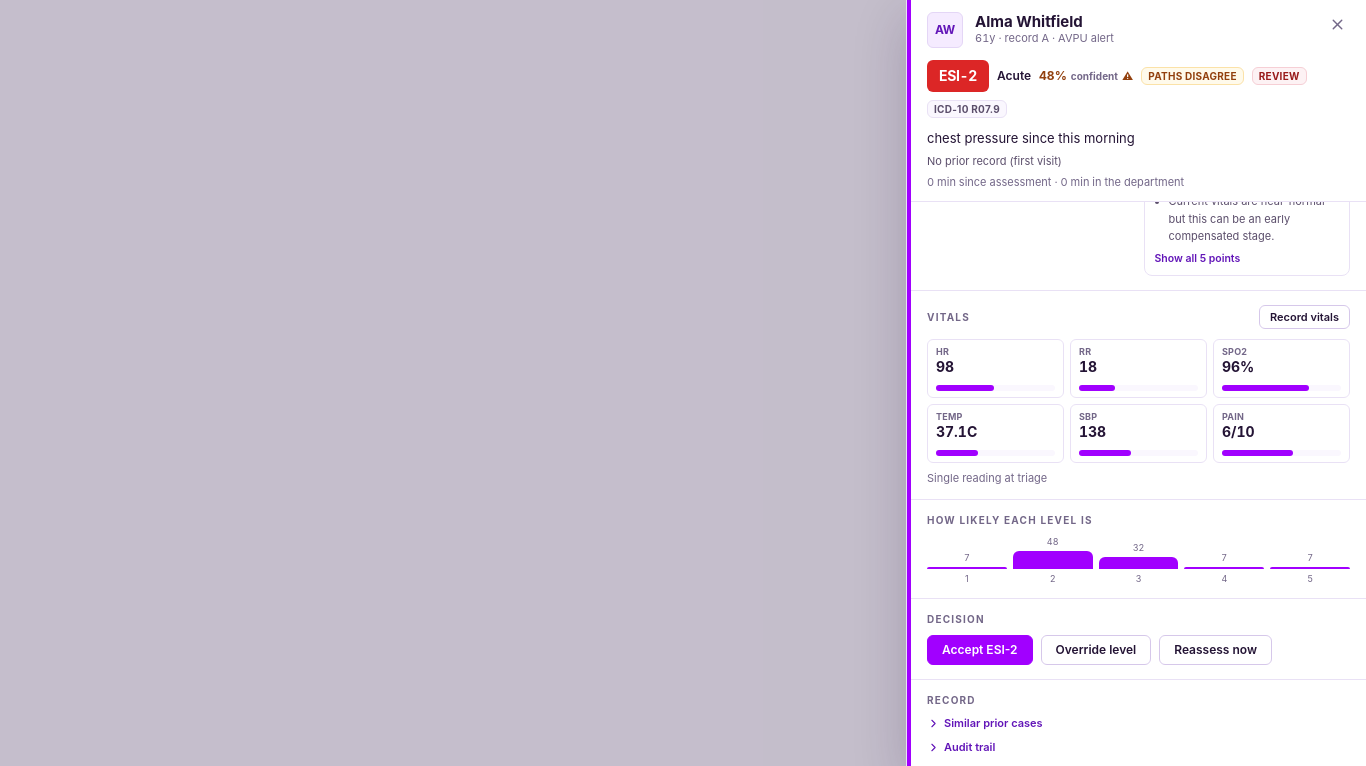
Test: similar prior cases › gives the reason rather than an empty list
(page scrolled)
What coordinates should you click on to do the following:
click the button "Similar prior cases"
I would click on:
 (985, 723)
Its box is left=927, top=716, right=1043, bottom=730.
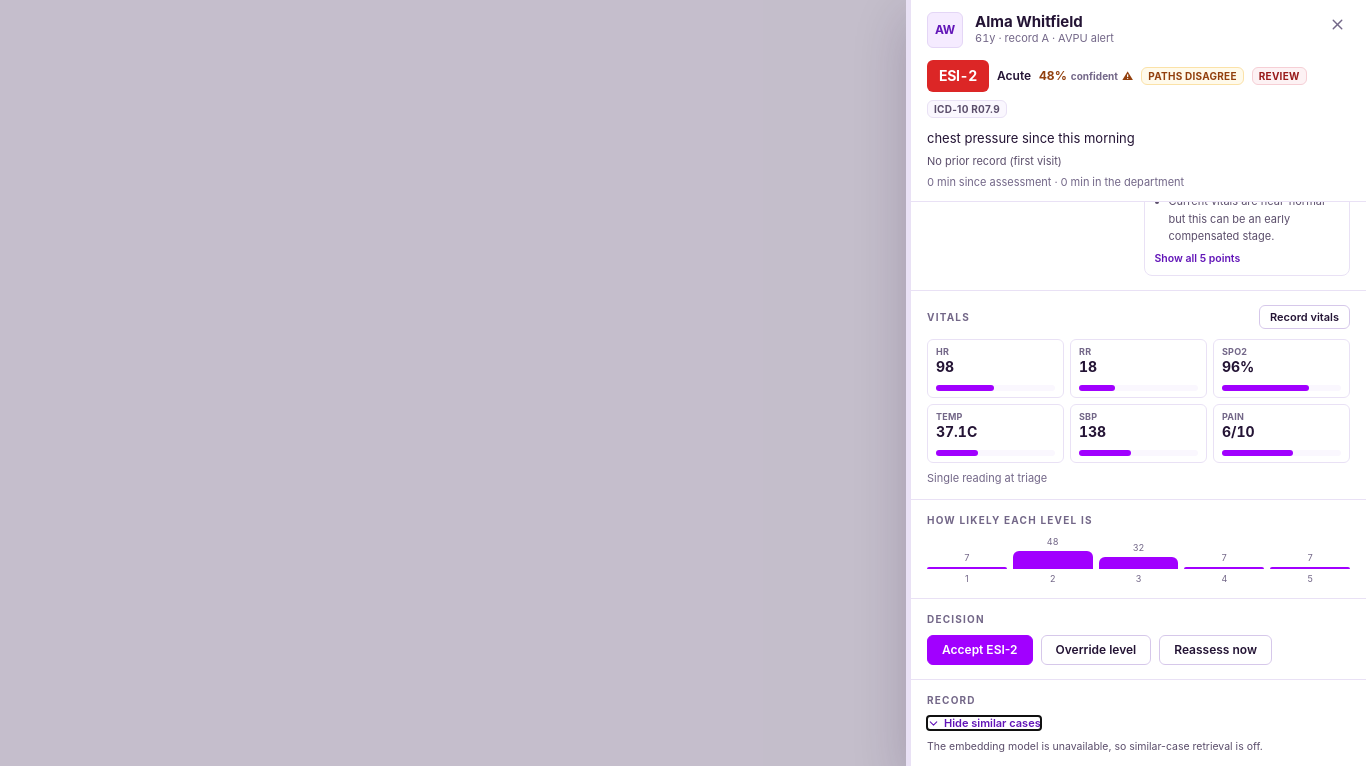
Check: the text "embedding model is unavailable" is shown, box left=927, top=740, right=1263, bottom=753
